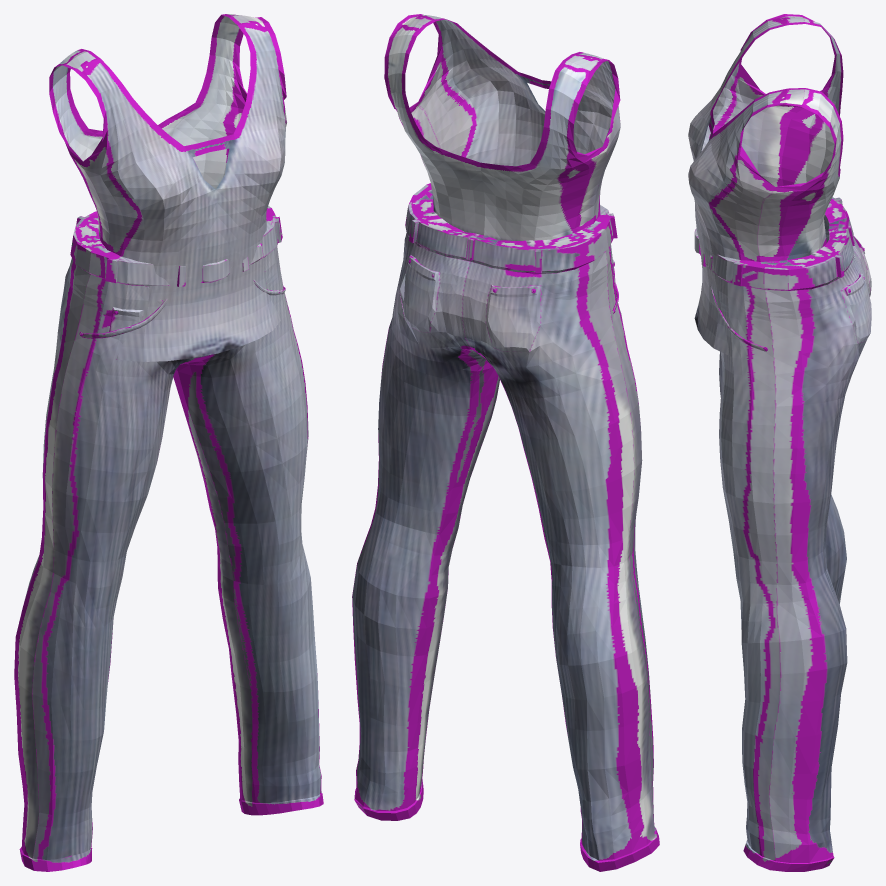
The picture shows the model from 3 angles, left to right: view 1: azimuth 30°, elevation 25°; view 2: azimuth 150°, elevation 25°; view 3: azimuth 270°, elevation 25°; orthographic projection. The views are drawn at different scales.
Size of the model in its own units: 0.3519 by 0.9226 by 0.2021.
1 material, 1 textured.
